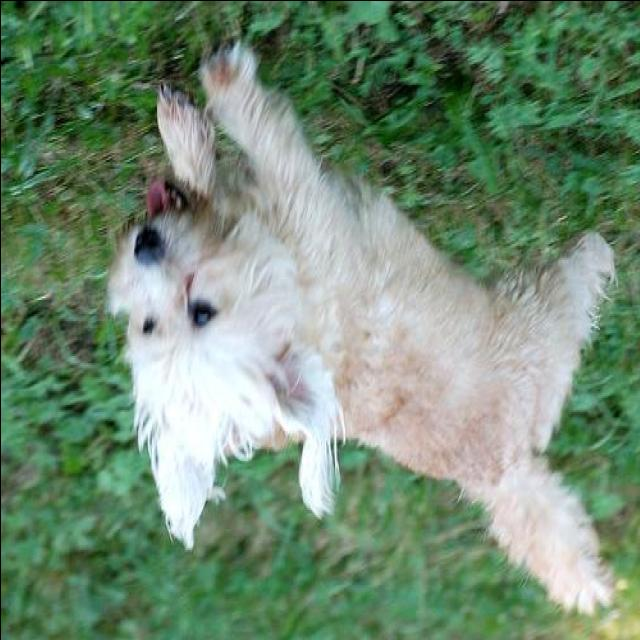dandie_dinmont: (104, 34, 618, 614)
